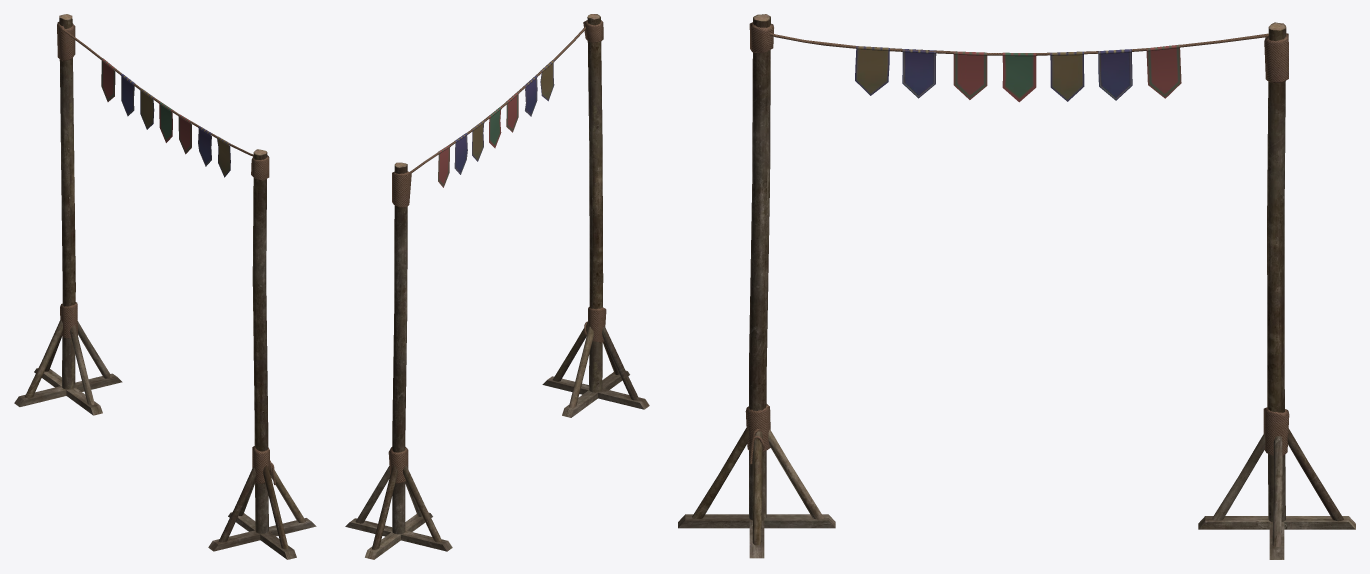
The model's file is ORN_Pennant_B-transformed.glb.
The picture shows the model from 3 angles, left to right: view 1: azimuth 30°, elevation 25°; view 2: azimuth 150°, elevation 25°; view 3: azimuth 270°, elevation 25°; orthographic projection. The views are drawn at different scales.
Parts seen in each view (by area): view 1: default; view 2: default; view 3: default.
Part boxes in pixels (x1,y1,x2,y2): default: (14,14,316,559); default: (345,14,649,559); default: (678,14,1355,559).
Size of the model in its own units: 0.7502 by 2.61 by 3.15.
1 material, 1 textured.
